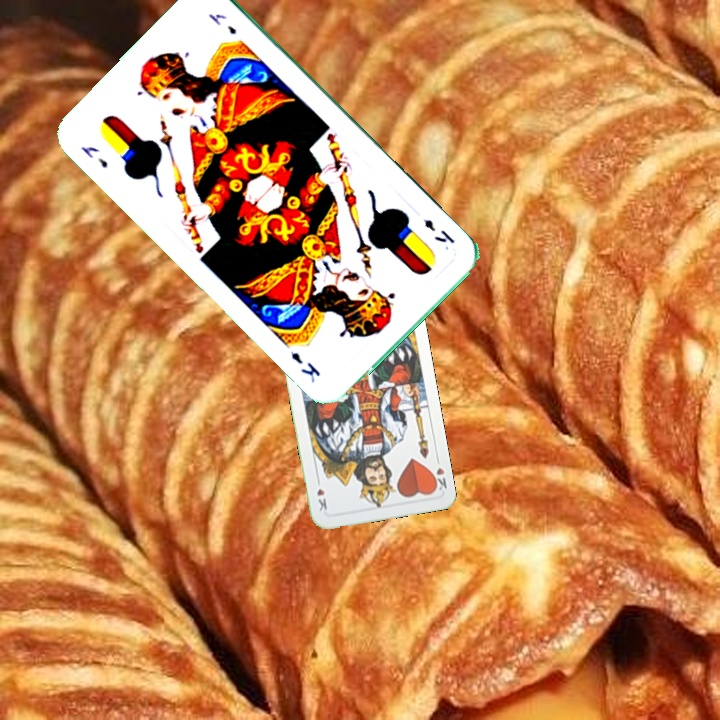EK: (420, 215, 458, 246), (77, 142, 111, 171)
HK: (427, 453, 450, 494)
